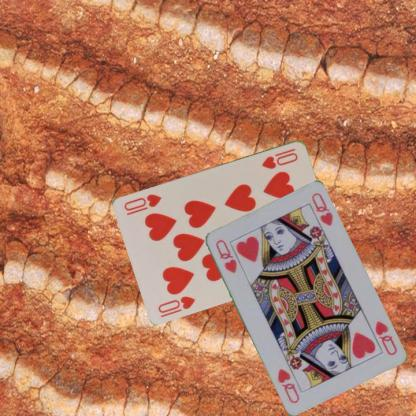10h: (260, 145, 300, 170), (156, 293, 196, 314)
Qh: (372, 318, 398, 356), (213, 236, 238, 275)
